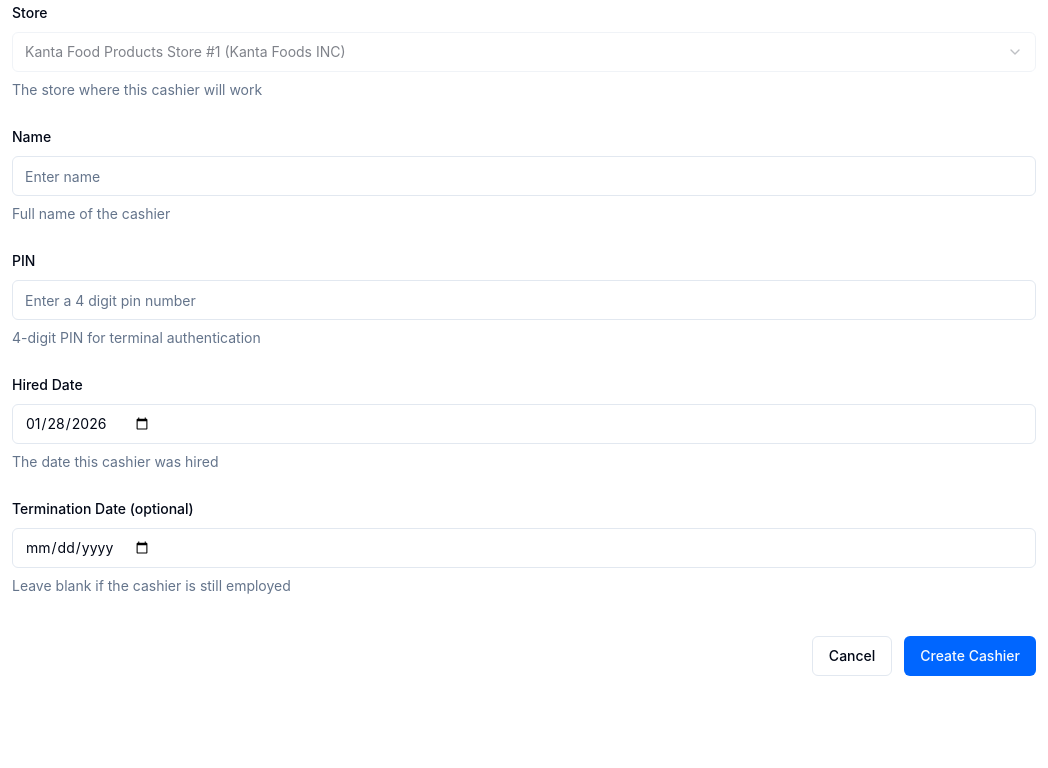
Test: 4.9-COMPONENT: CashierForm - Form Fields › [P1] 4.9-COMPONENT-022: should validate PIN is required
Expected: the text "Kanta Food Products Store #1 (Kanta Foods INC)" is shown, [25,42,346,62]
Note: User submits without PIN
Type "Test Cashier" into the field with test id "cashier-name".
click(524, 176); type("Test Cashier")  # box [12,156,1036,196]
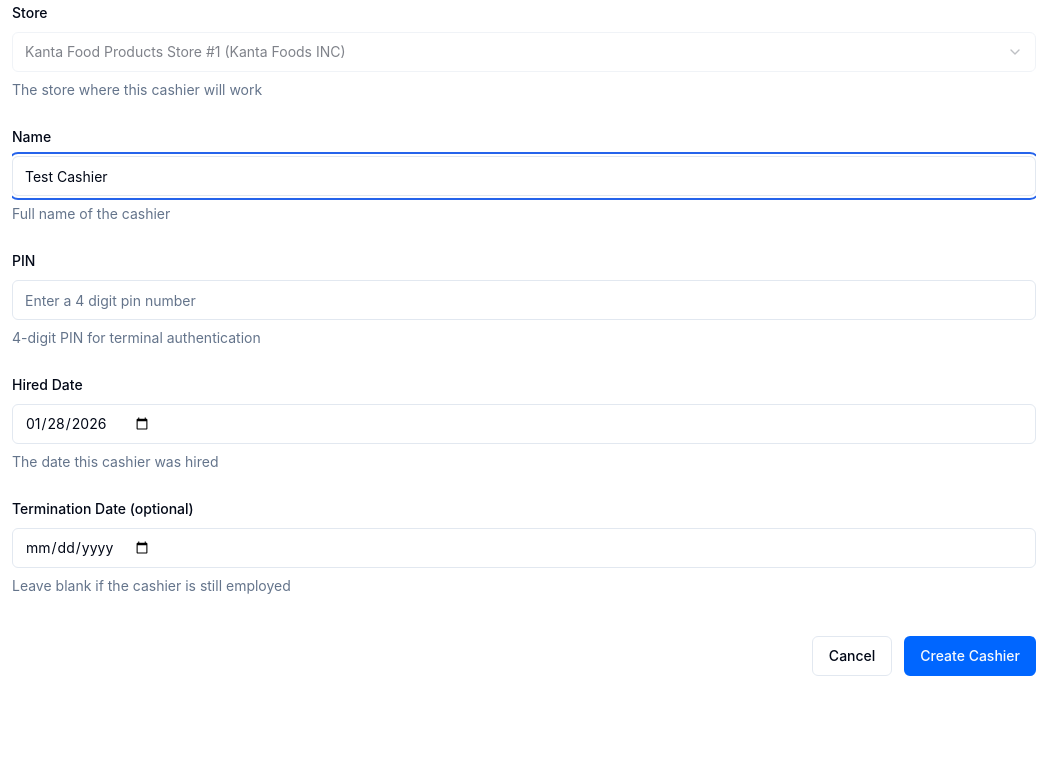
Click the button with test id "submit-cashier".
click(970, 656)  # box [904,636,1036,676]
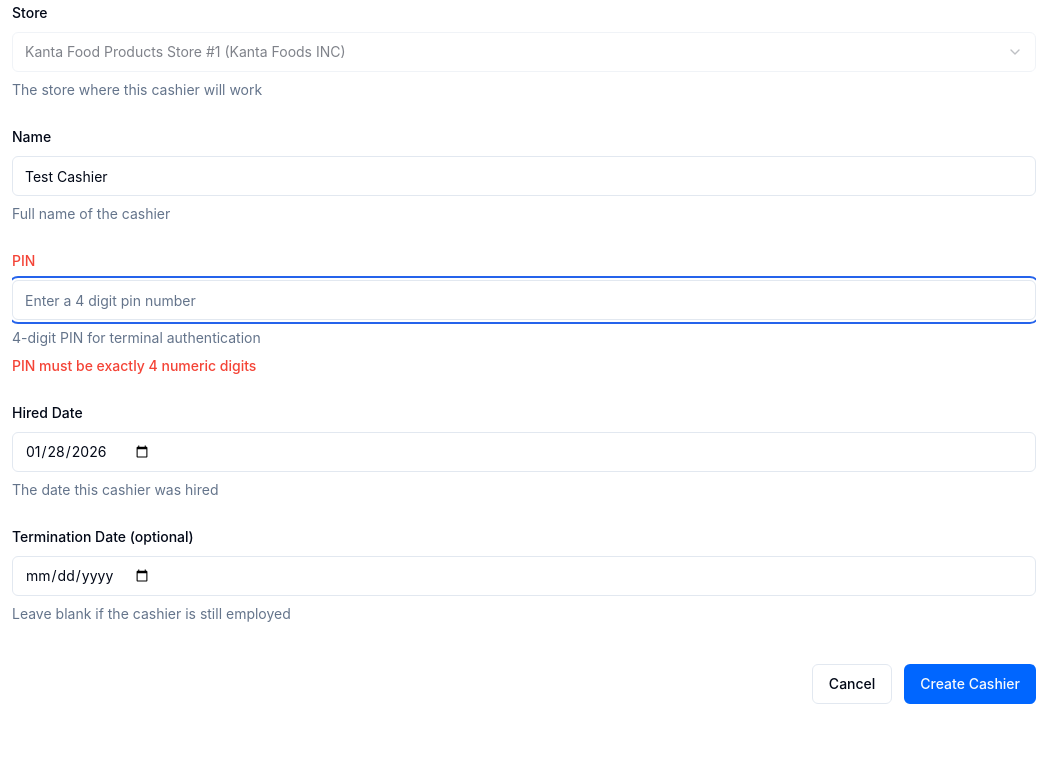
Expected: the text "PIN must be exactly 4 numeric digits" is shown, [12,357,256,374]
